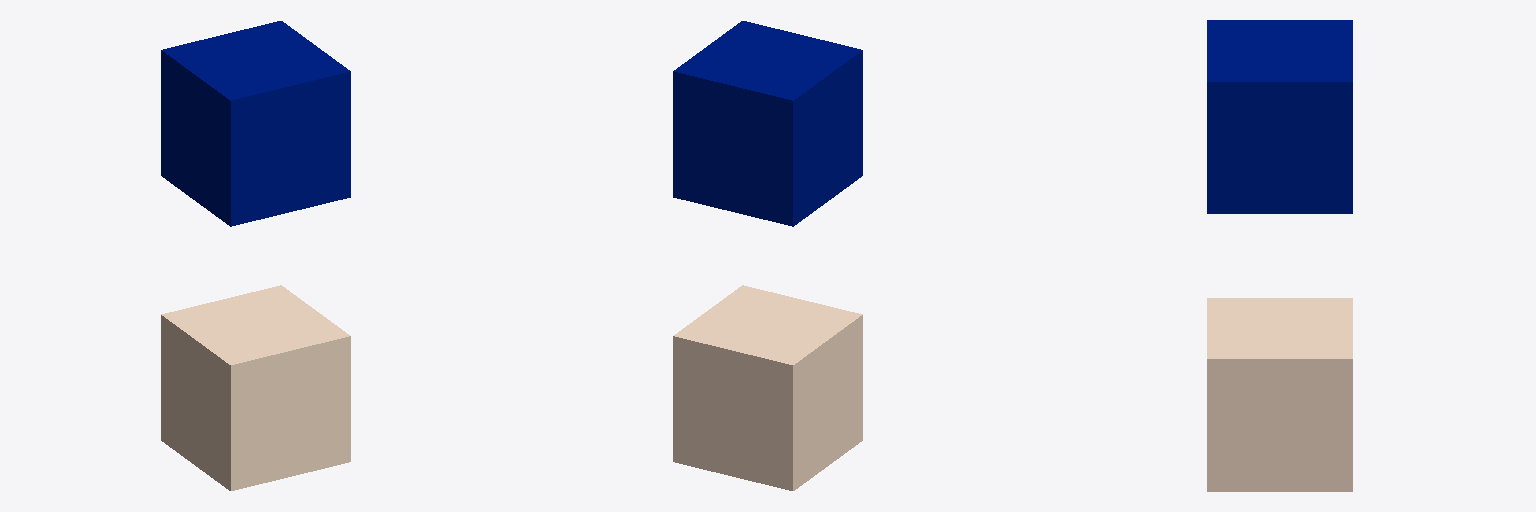
URDF robot description (cube):
<?xml version="1.0"?>
<robot name="cube">

<material name="blue">
    <color rgba="0.006 0.151 0.581 1"/>
</material>
<material name="white"> 
    <color rgba="1.0 0.91 0.827 1"/>
</material> 

<link name="base_link"></link>

<link name="link1">
    <visual>
    <origin rpy="0 0 0" xyz="0 0 0" />
        <geometry>
            <box size="0.1 0.1 0.1"/>
        </geometry>
        <material name="white"/>
    </visual>
    <inertial>
      <origin
        xyz="0 0 0"
        rpy="0 0 0" />
      <mass
        value="7.20094" />
      <inertia
        ixx="0.110444382"
        ixy="1.41826E-06"
        ixz="-0.000301506"
        iyy="0.024224628"
        iyz="-3.1726E-06"
        izz="0.108900947" />
    </inertial>
    <collision>
      <origin
        xyz="0 0 0"
        rpy="0 0 0" />
      <geometry>
        <box size="0.1 0.1 0.1"/>
      </geometry>
    </collision> 
</link>
 <joint name="joint_base_link_link1" type="fixed">
        <origin rpy="0 0 0" xyz="0 0 0" />
        <child link="link1" />
        <parent link="base_link" />
        <joint_properties damping="1.0" friction="1.0" />
    </joint>

<link name="head_link">
    <visual>
        <origin rpy="0 0 0" xyz="0 0 0.1" /> <!-- ORIGIN DISPLACEMENT ADDED -->
        <geometry>
            <box size="0.1 0.1 0.1"/>
        </geometry>
        <material name="blue"/>
    </visual>
    <inertial>
      <origin
        xyz="-0.0041 -1E-05 0.02016"
        rpy="0 0 0" />
      <mass 
        value="7.20094" />
      <inertia
        ixx="0.110444382"
        ixy="1.41826E-06"
        ixz="-0.000301506"
        iyy="0.024224628"
        iyz="-3.1726E-06"
        izz="0.108900947" />
    </inertial>
    <collision>
      <origin
        xyz="0 0 0"
        rpy="0 0 0" />
      <geometry>
        <box size="0.1 0.1 0.1"/>
      </geometry>
    </collision>
</link>

<joint name="base_link_to_head_link_joint" type="revolute">
    <origin rpy="0 0 0" xyz="0 0 0.11" />
    <parent link="link1" />
    <child link="head_link" />
    <axis xyz="0 0 1"/>
    <limit effort="100" velocity="1.0" lower="-1.57" upper="1.57"/>
</joint>
</robot>

--- Render facts (derived) ---
The picture shows the robot from 3 angles, left to right: view 1: azimuth 30°, elevation 25°; view 2: azimuth 150°, elevation 25°; view 3: azimuth 270°, elevation 25°; orthographic projection.
Model cube with 3 links and 2 joints (1 revolute, 1 fixed), rooted at base_link, posed all joints at 0.
Visible links, largest first — view 1: link1, head_link; view 2: link1, head_link; view 3: link1, head_link.
Link boxes in pixels (<box>): link1: <box>161,285,350,490</box>; head_link: <box>161,21,350,226</box>; link1: <box>673,285,862,490</box>; head_link: <box>673,21,862,226</box>; link1: <box>1207,298,1352,491</box>; head_link: <box>1207,20,1352,213</box>.
Bounding box of the posed robot: 0.1 × 0.1 × 0.31 m (x, y, z).
Geometry: primitives only (box / cylinder / sphere), no mesh files.